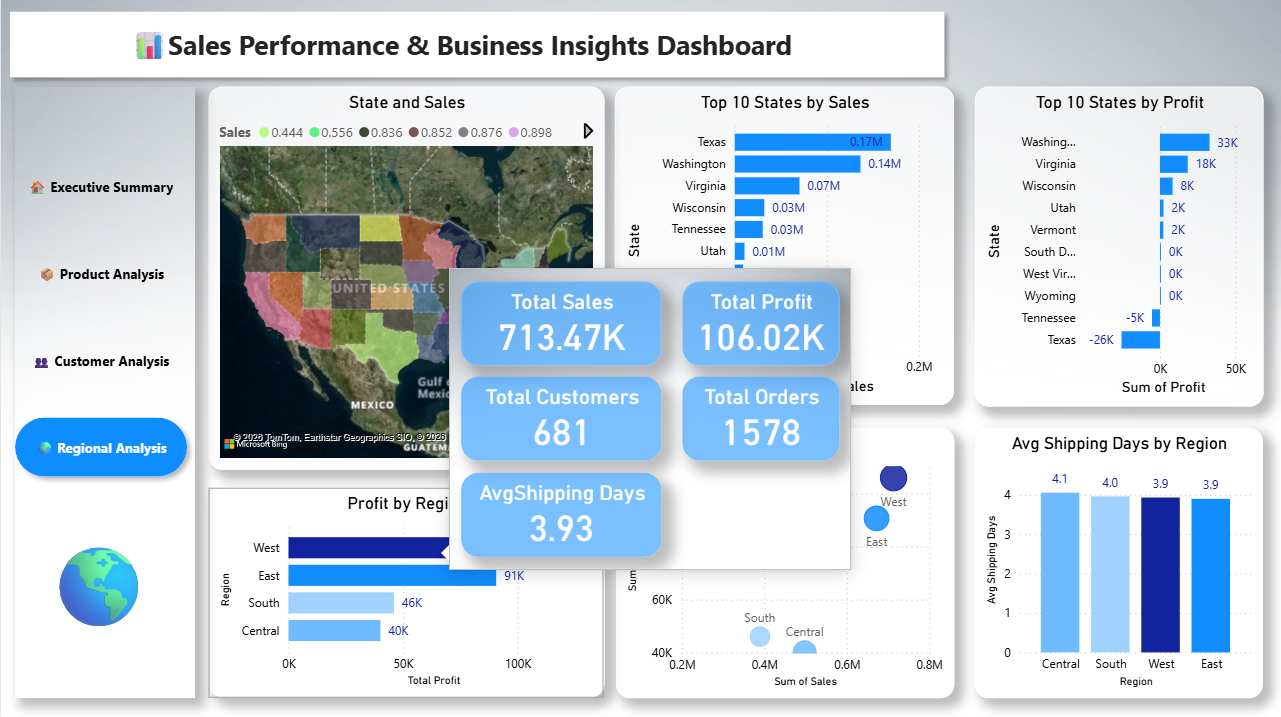

This screenshot's page, from the dashboard's own definition file:
{"tool":"powerbi","page":{"name":"🌍 Regional Analysis","canvas":[1280,720],"ordinal":3},"visuals":[{"type":"clusteredBarChart","title":"Profit by Region","fields":{"Category":["sales_cleaned_final.Region"],"Y":["sales_cleaned_final.Total Profit"]},"box":[207,488.7,395.8,209.9],"z":0},{"type":"filledMap","fields":{"Category":["sales_cleaned_final.State"],"Series":["sales_cleaned_final.Sales"]},"box":[207,87.3,395.8,383.1],"z":1000},{"type":"clusteredBarChart","title":"Top 10 States by Sales","fields":{"Y":["Sum(sales_cleaned_final.Sales)"],"Category":["sales_cleaned_final.State"]},"box":[614.1,87.3,339.4,318.3],"z":2000},{"type":"clusteredBarChart","title":"Top 10 States by Profit","fields":{"Category":["sales_cleaned_final.State"],"Y":["Sum(sales_cleaned_final.Profit)"]},"box":[973.2,87.3,288.7,319.7],"z":3000},{"type":"clusteredColumnChart","fields":{"Category":["sales_cleaned_final.Region"],"Y":["sales_cleaned_final.Avg Shipping Days"]},"box":[974.3,428.4,287.8,270.3],"z":4000},{"type":"scatterChart","title":"Sales vs Profit","fields":{"Y":["Sum(sales_cleaned_final.Profit)"],"X":["Sum(sales_cleaned_final.Sales)"],"Size":["sales_cleaned_final.Total Orders"],"Category":["sales_cleaned_final.Region"]},"box":[615.5,428.2,338,270.4],"z":5000},{"type":"shape","box":[14.1,87.3,180.3,611.3],"z":6000},{"type":"pageNavigator","box":[4.9,148.5,190.2,341.1],"z":7000},{"type":"textbox","title":"🌎","box":[28.9,529.5,138.5,138.5],"z":8000},{"type":"shape","box":[0,3.7,952.2,83.4],"z":9000},{"type":"textbox","box":[14.7,22.1,905.5,45.4],"z":10000}]}

Visuals, with their boxes in screenshot pixels (x1, y1, x2, y2), scaled from the page's 1280x720 canvas onto the 1281x717 screenshot:
"Profit by Region" clusteredBarChart: rect(207, 487, 603, 696)
filledMap - sales_cleaned_final.State x sales_cleaned_final.Sales: rect(207, 87, 603, 468)
"Top 10 States by Sales" clusteredBarChart: rect(615, 87, 954, 404)
"Top 10 States by Profit" clusteredBarChart: rect(974, 87, 1263, 405)
clusteredColumnChart - sales_cleaned_final.Region x sales_cleaned_final.Avg Shipping Days: rect(975, 427, 1263, 696)
"Sales vs Profit" scatterChart: rect(616, 426, 954, 696)
shape: rect(14, 87, 195, 696)
pageNavigator: rect(5, 148, 195, 488)
"🌎" textbox: rect(29, 527, 168, 665)
shape: rect(0, 4, 953, 87)
textbox: rect(15, 22, 921, 67)
